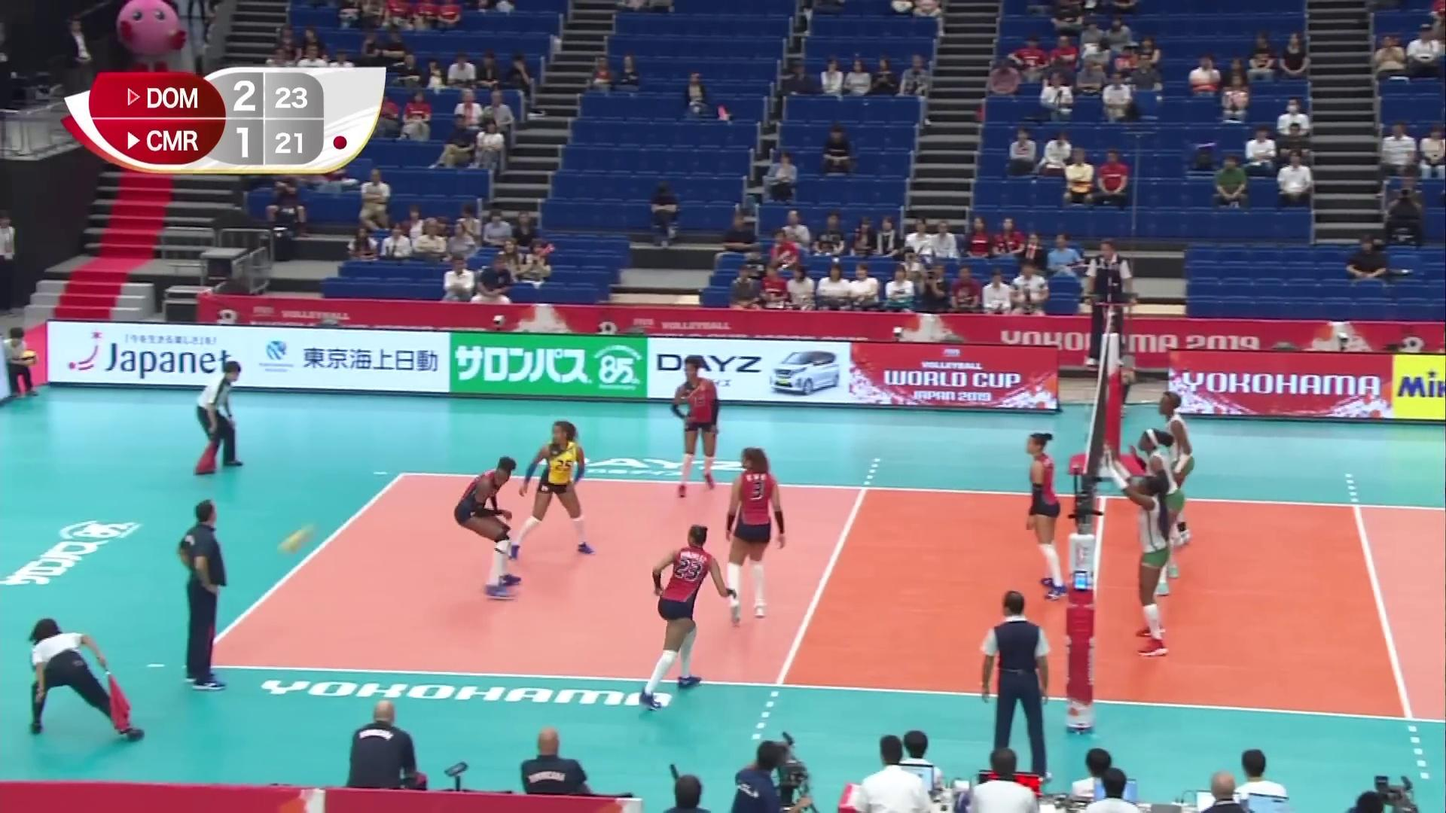player: (641, 523, 745, 698), (726, 450, 793, 622), (1121, 468, 1180, 655), (521, 421, 593, 558), (1014, 430, 1069, 597), (457, 459, 521, 601), (1135, 427, 1182, 600), (674, 360, 732, 491), (1153, 392, 1200, 544)
refree: (24, 625, 140, 744), (977, 591, 1047, 782), (1080, 240, 1139, 373), (192, 361, 244, 476)
